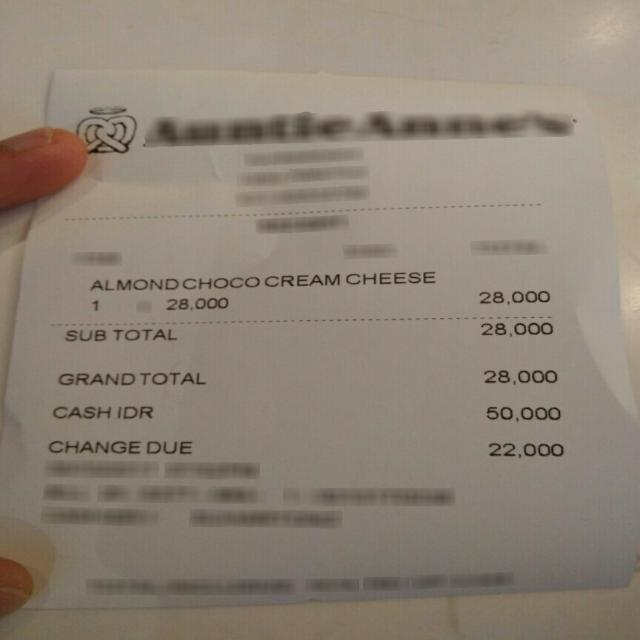kertas: (4, 71, 638, 609)
